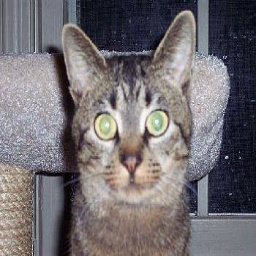cat: (59, 8, 201, 256)
